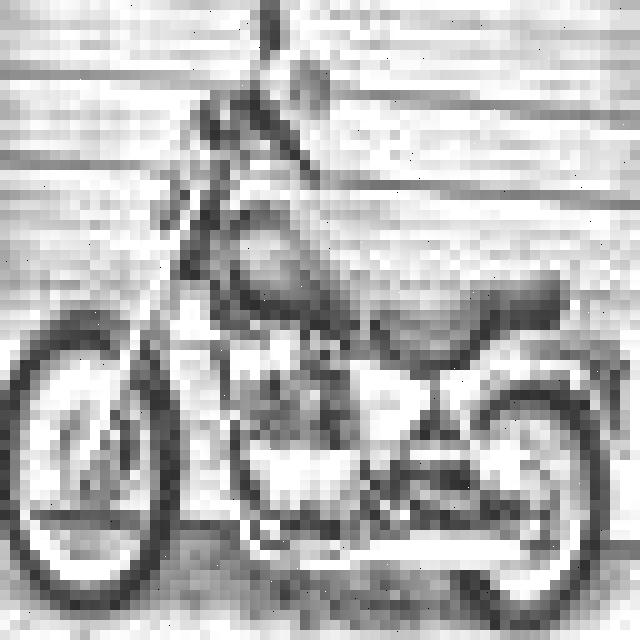mopeds: (0, 77, 629, 619)
